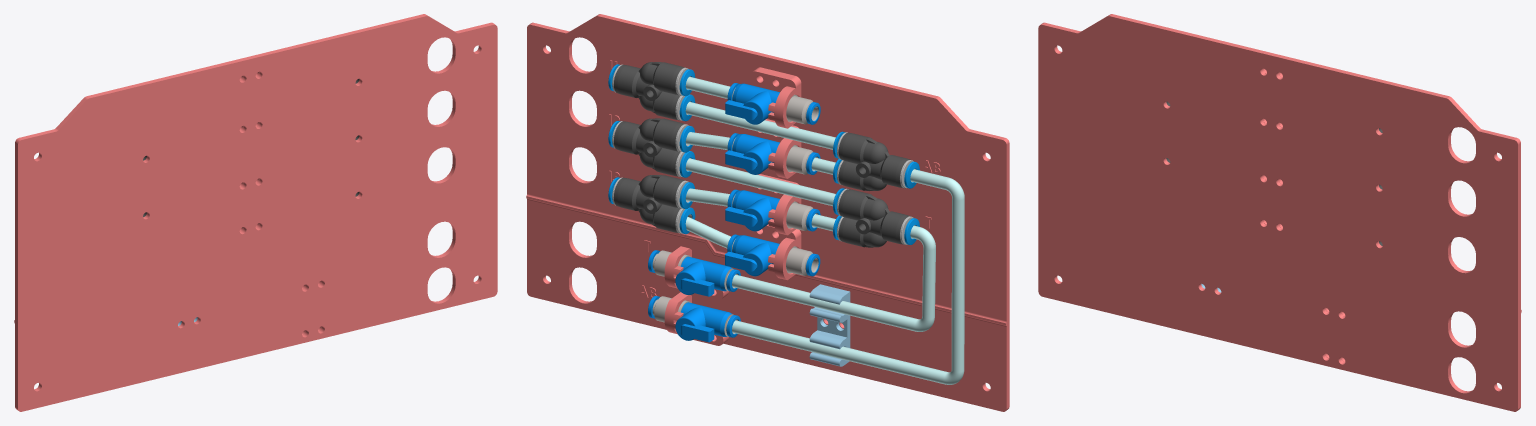
3 renders of one model, left to right at view 1: azimuth 30°, elevation 25°; view 2: azimuth 150°, elevation 25°; view 3: azimuth 330°, elevation 25°, orthographic.
Parts seen in each view (by area): view 1: pneumatic_base_plate-1 - Part; view 2: pneumatic_base_plate-1 - Part, Tube-218X016_10^Tube_9-pneumatic_control_plate_v2-001-1 - Pa, Tube-218X016_9^Tube_9-pneumatic_control_plate_v2-001-1 - Par, 153149_QSY_6-4 - Part, 153149_QSY_6-2 - Part, 153149_QSY_6-1 - Part, 153149_QSY_6-5 - Part, 153149_QSY_6-3 - Part, PT Clip (Type UU) V2-1 - Part, Tube-218X016_2^Tube_9-pneumatic_control_plate_v2-001-1 - Par, 153484 QH-QS-6-1 6 - Part, 153484 QH-QS-6-1 5 - Part (+26 smaller); view 3: pneumatic_base_plate-1 - Part.
Part boxes in pixels (left/top/right/bottom): pneumatic_base_plate-1 - Part: left=14, top=14, right=497, bottom=411; pneumatic_base_plate-1 - Part: left=526, top=14, right=1009, bottom=411; Tube-218X016_10^Tube_9-pneumatic_control_plate_v2-001-1 - Pa: left=732, top=169, right=964, bottom=384; Tube-218X016_9^Tube_9-pneumatic_control_plate_v2-001-1 - Par: left=732, top=225, right=935, bottom=331; 153149_QSY_6-4 - Part: left=838, top=189, right=910, bottom=247; 153149_QSY_6-2 - Part: left=838, top=132, right=910, bottom=190; 153149_QSY_6-1 - Part: left=614, top=118, right=684, bottom=176; 153149_QSY_6-5 - Part: left=613, top=175, right=684, bottom=232; 153149_QSY_6-3 - Part: left=614, top=62, right=684, bottom=120; PT Clip (Type UU) V2-1 - Part: left=809, top=284, right=850, bottom=366; Tube-218X016_2^Tube_9-pneumatic_control_plate_v2-001-1 - Par: left=685, top=158, right=835, bottom=206; 153484 QH-QS-6-1 6 - Part: left=648, top=296, right=740, bottom=342; 153484 QH-QS-6-1 5 - Part: left=648, top=250, right=740, bottom=296; pneumatic_base_plate-1 - Part: left=1038, top=14, right=1521, bottom=411.
Size of the model in its own units: 0.24 by 0.142 by 0.0245.
